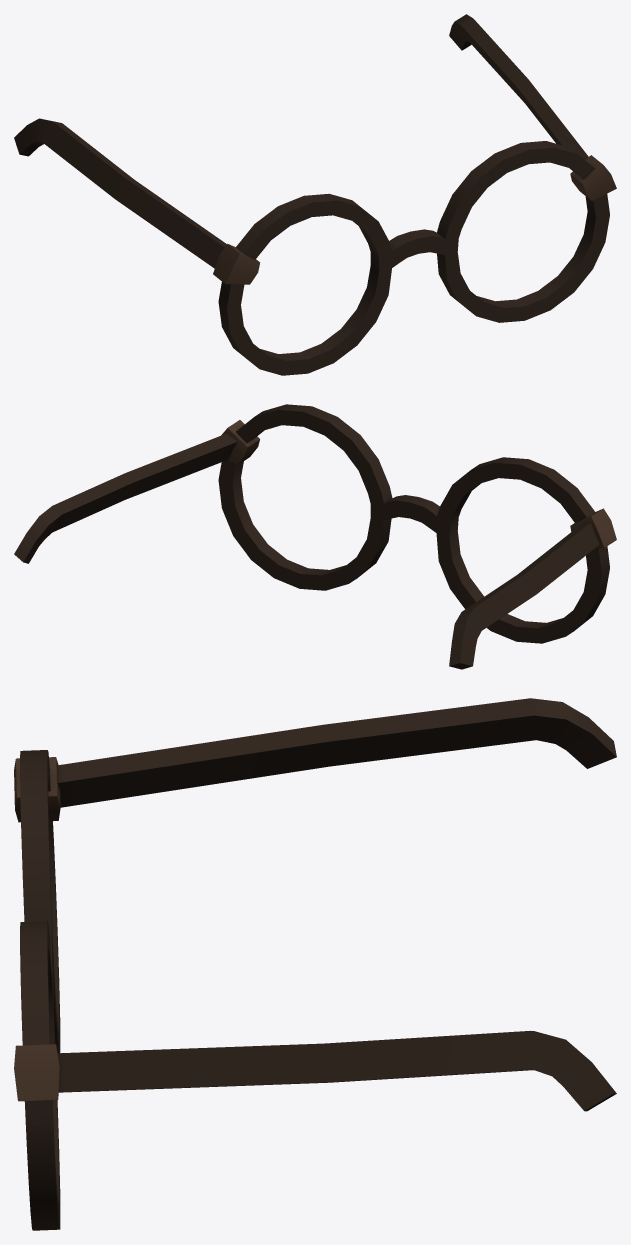
Rendered from SM_MISC_Glasses_Round.fbx.
3 views of the same model, one above another, from view 1: azimuth 30°, elevation 25°; view 2: azimuth 150°, elevation 25°; view 3: azimuth 270°, elevation 25° (orthographic). The views are drawn at different scales.
Visible parts, largest first — view 1: MISC_Glasses_Round; view 2: MISC_Glasses_Round; view 3: MISC_Glasses_Round.
Boxes of the visible parts, <box> form: MISC_Glasses_Round: <box>14,14,616,375</box>; MISC_Glasses_Round: <box>14,404,616,669</box>; MISC_Glasses_Round: <box>14,698,616,1230</box>.
Size of the model in its own units: 60.89 by 22.41 by 43.31.
Materials: 1 (1 with a texture image).
